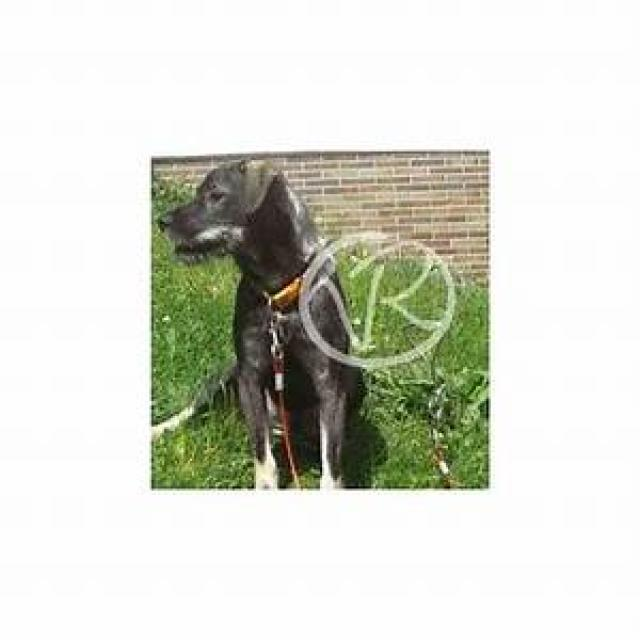animal: (149, 156, 369, 488)
